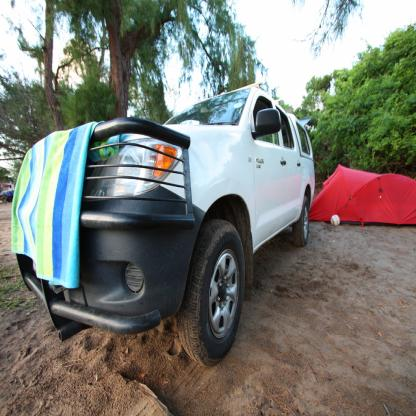Car: (12, 83, 316, 368)
